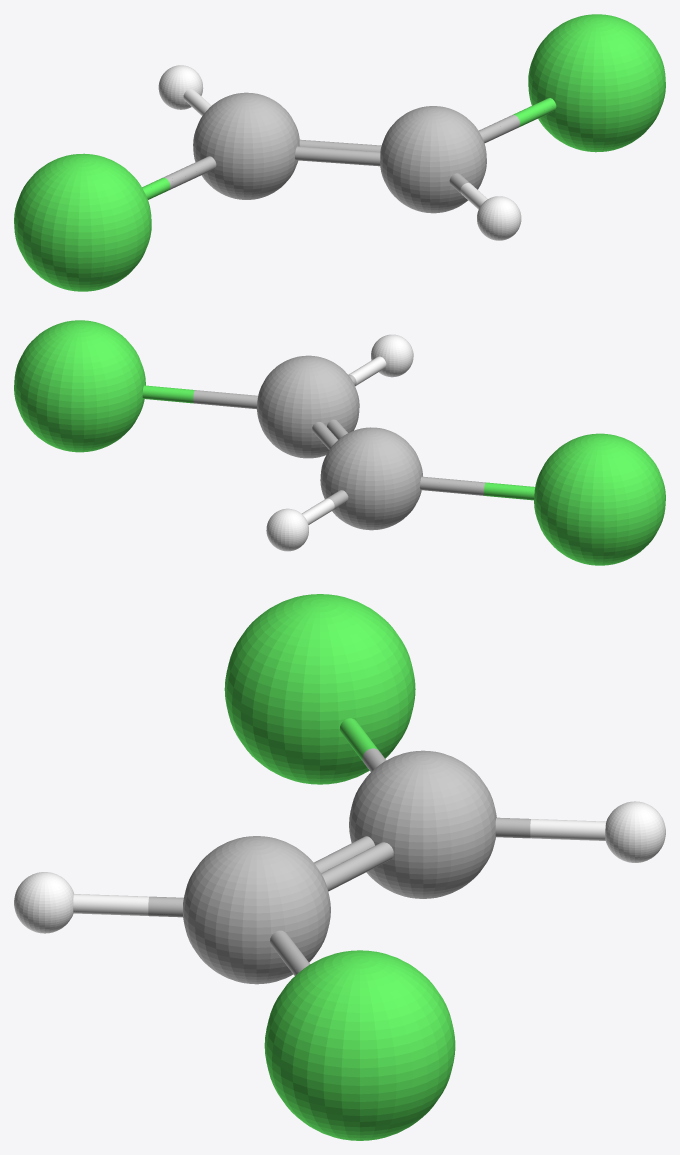
File: esfera.glb
The picture shows the model from 3 angles, top to bottom: view 1: azimuth 30°, elevation 25°; view 2: azimuth 150°, elevation 25°; view 3: azimuth 270°, elevation 25°; orthographic projection. The views are drawn at different scales.
Visible parts, largest first — view 1: Chlorine_ball (×2), Carbon_ball (×2), Hydrogen_ball (×2); view 2: Chlorine_ball (×2), Carbon_ball (×2), Hydrogen_ball (×2); view 3: Chlorine_ball (×2), Carbon_ball (×2), Hydrogen_ball (×2).
Part boxes in pixels (x1,y1,x2,y2): Chlorine_ball (×2): (14,14,665,291); Carbon_ball (×2): (193,92,486,213); Hydrogen_ball (×2): (158,65,521,240); Chlorine_ball (×2): (14,320,665,565); Carbon_ball (×2): (257,355,422,530); Hydrogen_ball (×2): (266,334,413,551); Chlorine_ball (×2): (224,594,455,1140); Carbon_ball (×2): (183,750,496,984); Hydrogen_ball (×2): (14,801,665,933).
Size of the model in its own units: 5.26 by 0.9702 by 3.32.
